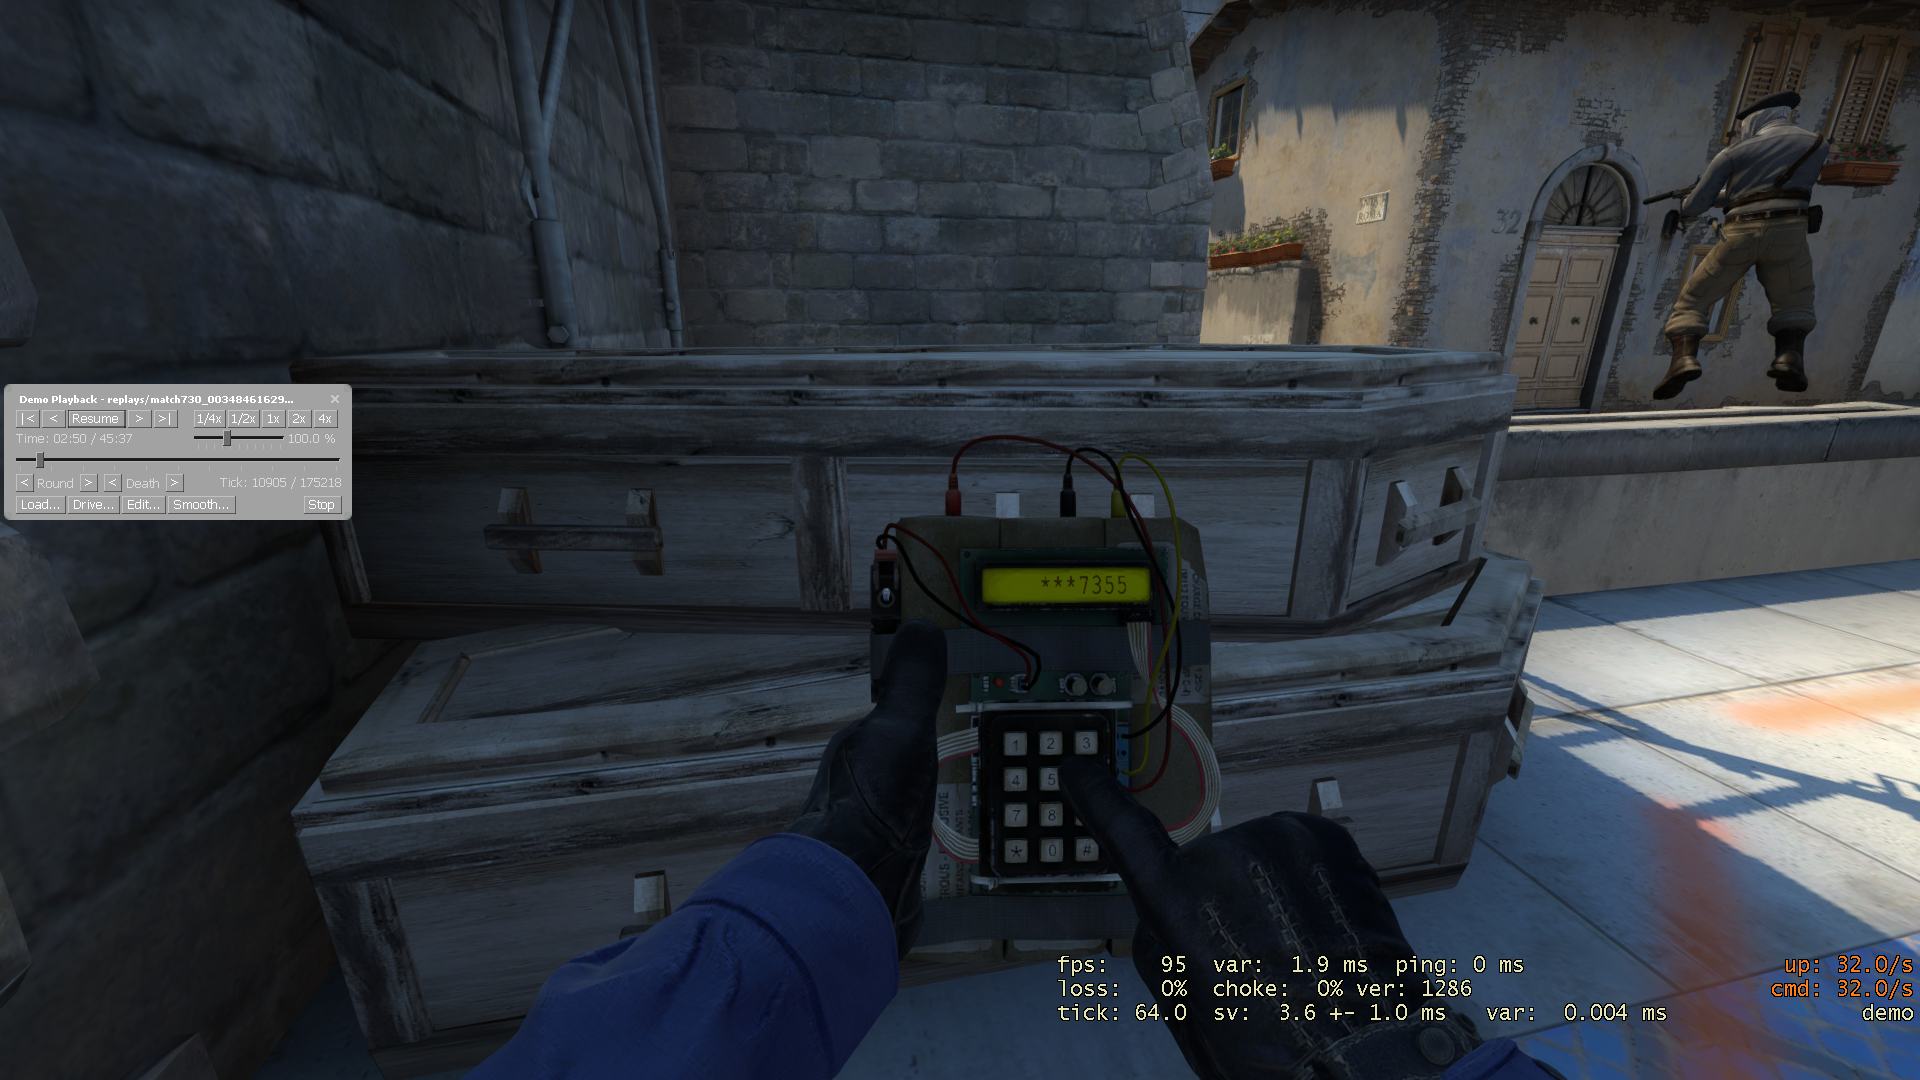t: (1648, 92, 1829, 401)
